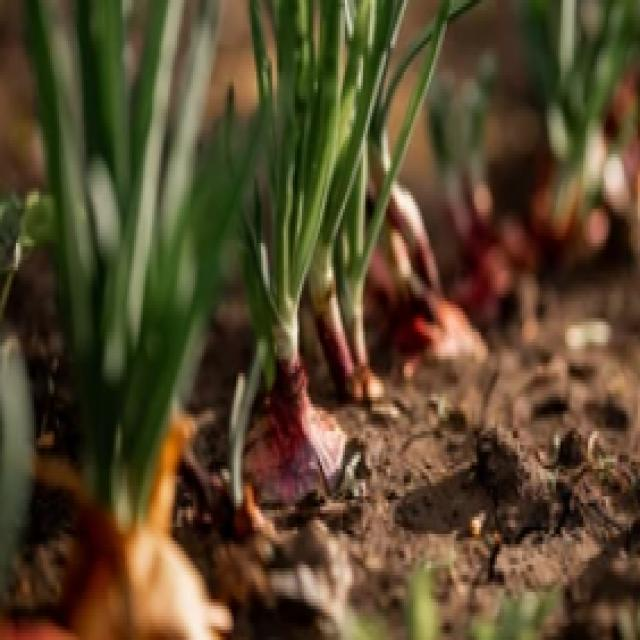sprouting: (70, 266, 156, 506), (297, 175, 377, 376), (247, 209, 311, 380), (358, 174, 429, 294)
